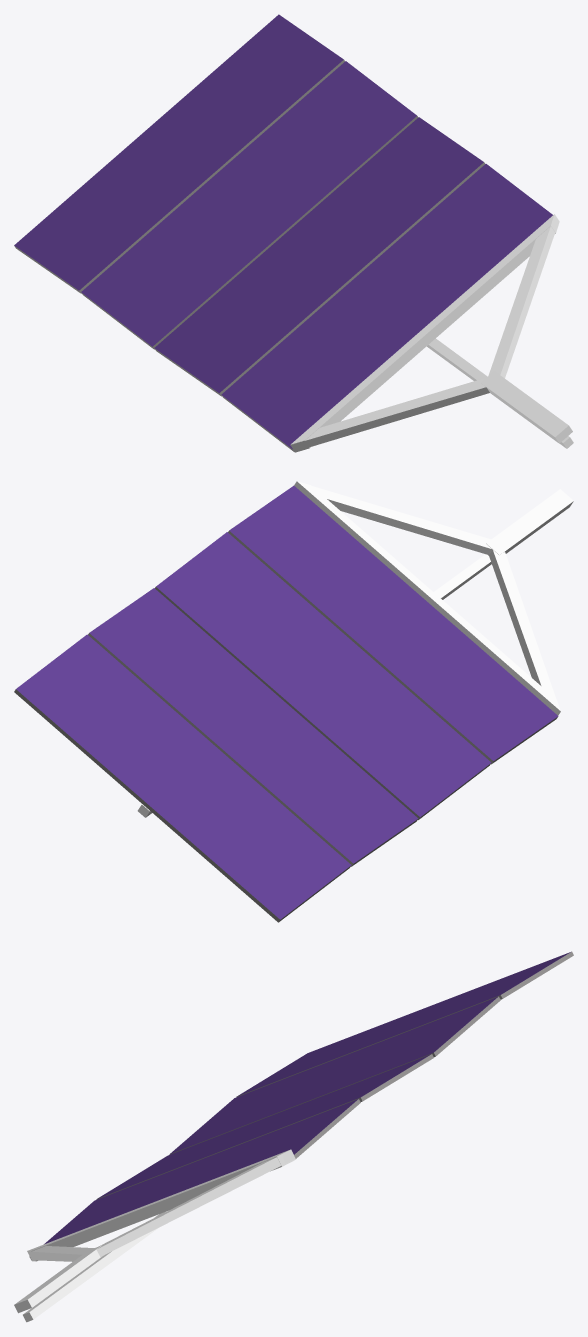
Rendered from rightWing.fbx.
The picture shows the model from 3 angles, top to bottom: view 1: azimuth 30°, elevation 25°; view 2: azimuth 150°, elevation 25°; view 3: azimuth 330°, elevation 25°; orthographic projection.
Visible parts, largest first — view 1: <LWODefault>; view 2: <LWODefault>; view 3: <LWODefault>.
Part boxes in pixels (x1,y1,x2,y2): <LWODefault>: (14,14,573,452); <LWODefault>: (14,481,573,922); <LWODefault>: (14,951,573,1322).
Size of the model in its own units: 52.59 by 32.7 by 141.
